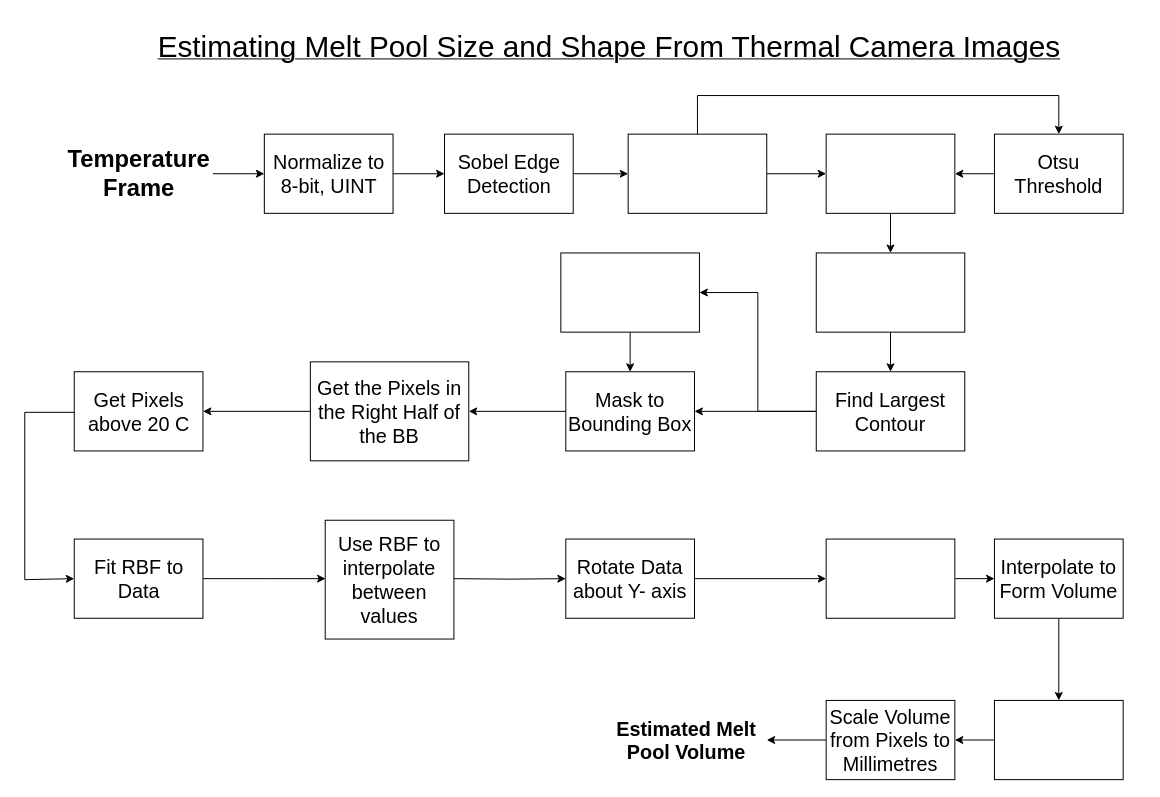
Some shapes in this 1160 by 797 pixel diagram are drawn without their labels. The shapes that lost their labels are listed below. From the top down, each one's centre as x and y in pixels, then its label:
point 697,173: Mask To Centre Region
point 890,173: Threshold Image
point 629,292: Find Bounding Box
point 890,292: Morphological Transform, Open
point 890,578: Filter Values to Above Threshold
point 1058,739: Estimate Melt Pool Volume
